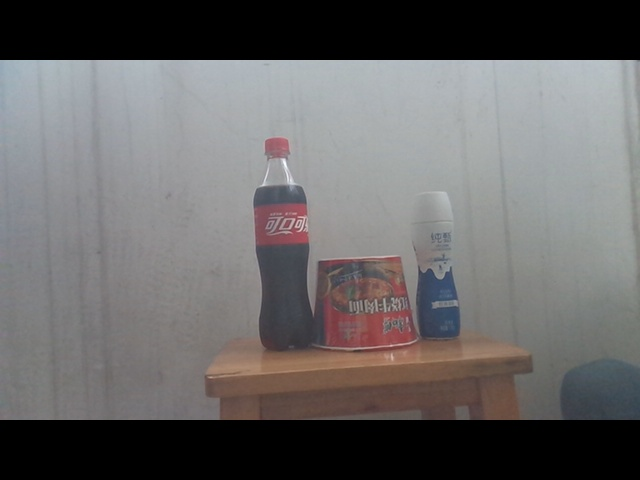cola: (253, 137, 316, 350)
kangshifu: (313, 255, 420, 351)
yogurt: (411, 191, 462, 340)
